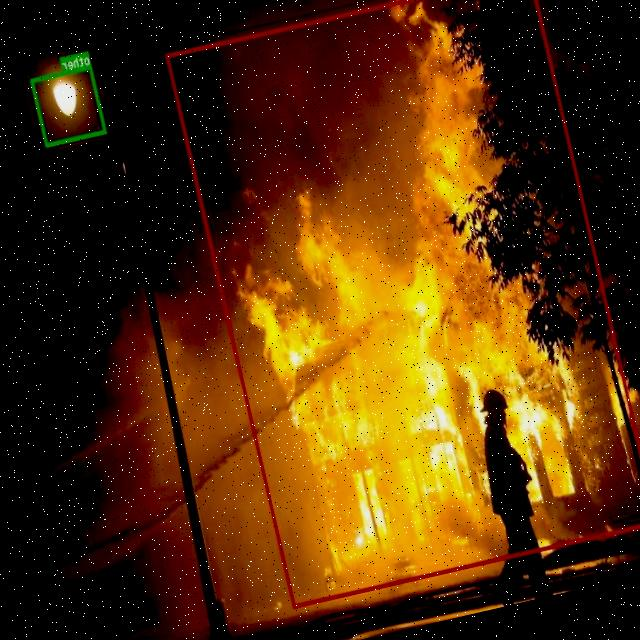fire: (165, 0, 640, 607)
